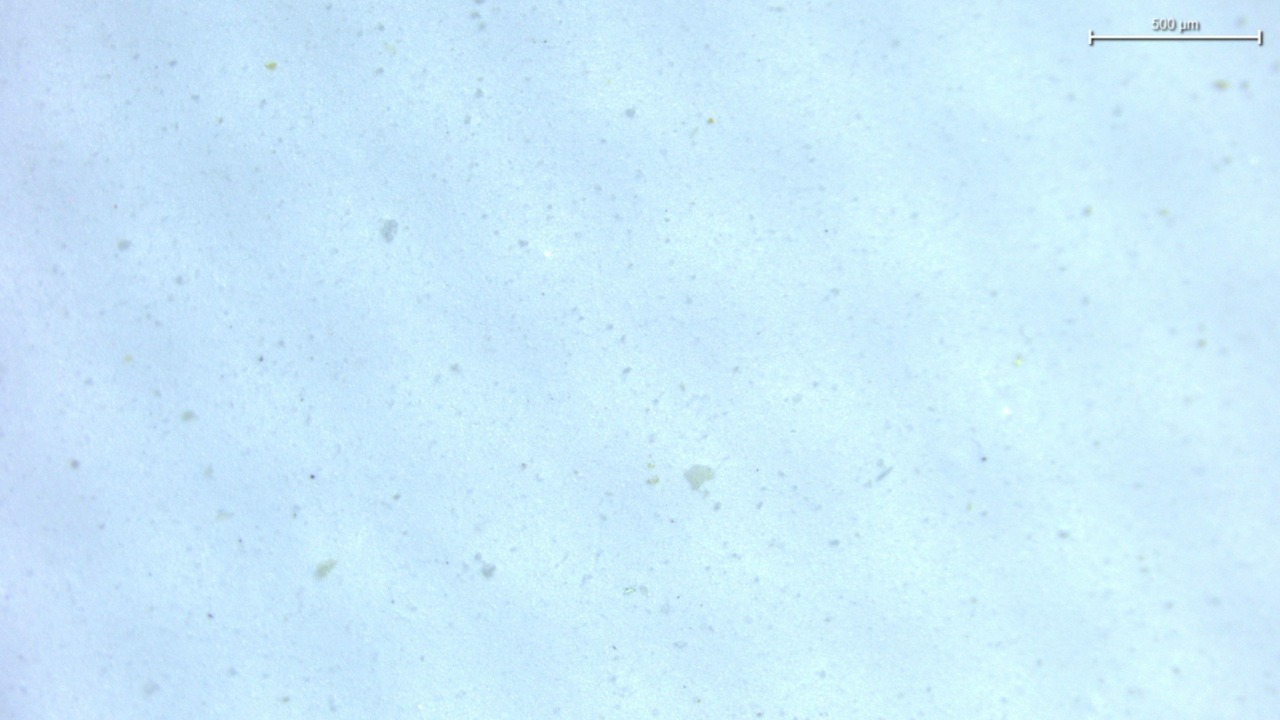microplastic_fragment: (684, 464, 714, 489)
